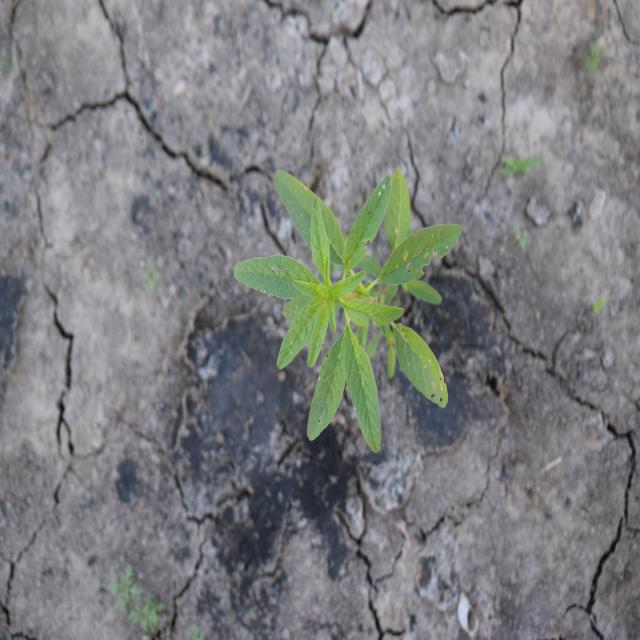Waterhemp: (232, 165, 462, 455)
